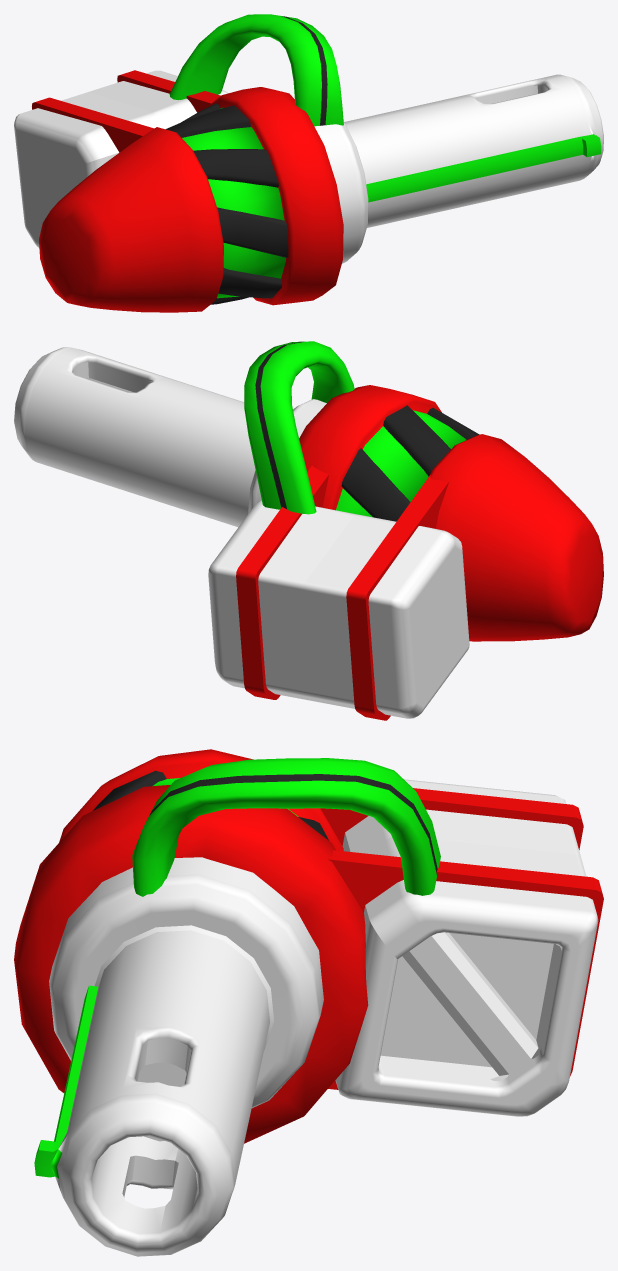
The model's file is Roboy_LowerArm_Variation02.fbx.
3 renders of one model, top to bottom at view 1: azimuth 30°, elevation 25°; view 2: azimuth 150°, elevation 25°; view 3: azimuth 270°, elevation 25°, orthographic. The views are drawn at different scales.
Parts seen in each view (by area): view 1: Robot01_LowerArm_Variation02; view 2: Robot01_LowerArm_Variation02; view 3: Robot01_LowerArm_Variation02.
Boxes of the visible parts, left/top/right/bottom form: Robot01_LowerArm_Variation02: left=14, top=14, right=603, bottom=312; Robot01_LowerArm_Variation02: left=14, top=341, right=603, bottom=720; Robot01_LowerArm_Variation02: left=14, top=749, right=603, bottom=1256.
Size of the model in its own units: 66.1 by 30.36 by 40.3.
